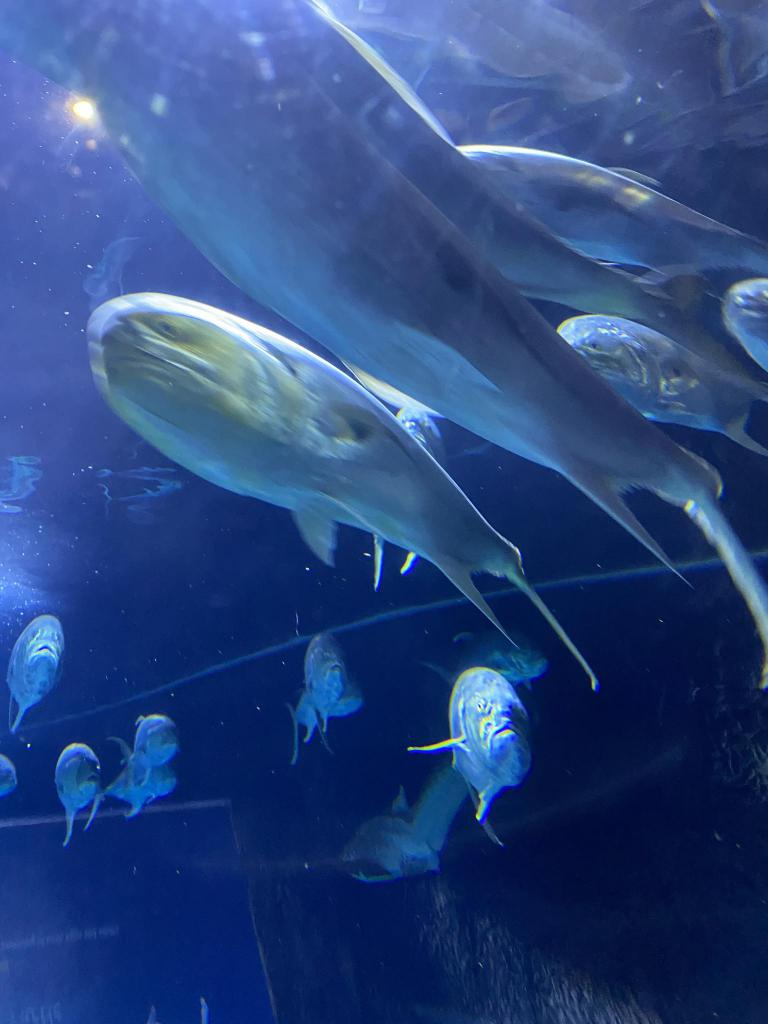fish: (115, 101, 767, 693), (88, 292, 596, 690), (450, 84, 768, 308), (556, 311, 768, 459), (406, 666, 528, 844), (6, 614, 63, 732), (286, 680, 360, 760), (448, 632, 546, 680), (105, 761, 175, 823), (57, 743, 99, 841), (112, 714, 178, 776), (725, 279, 767, 371), (304, 629, 344, 725), (0, 755, 19, 801)
shark: (340, 786, 440, 886)
